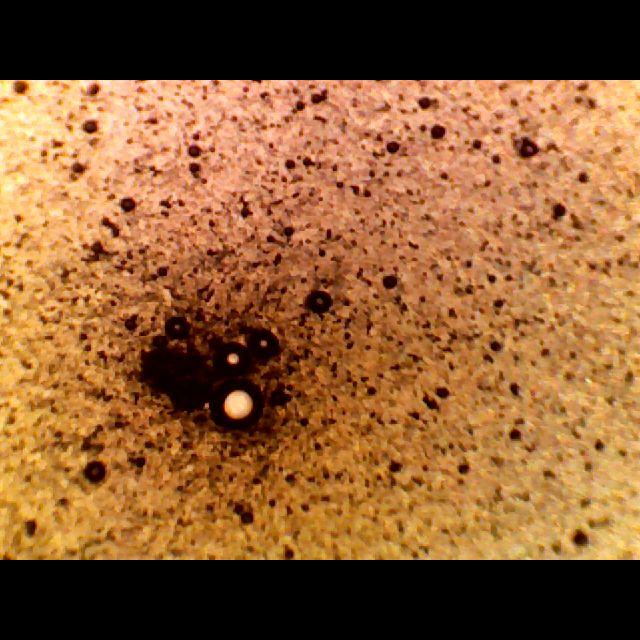microbeads: (206, 382, 266, 432)
